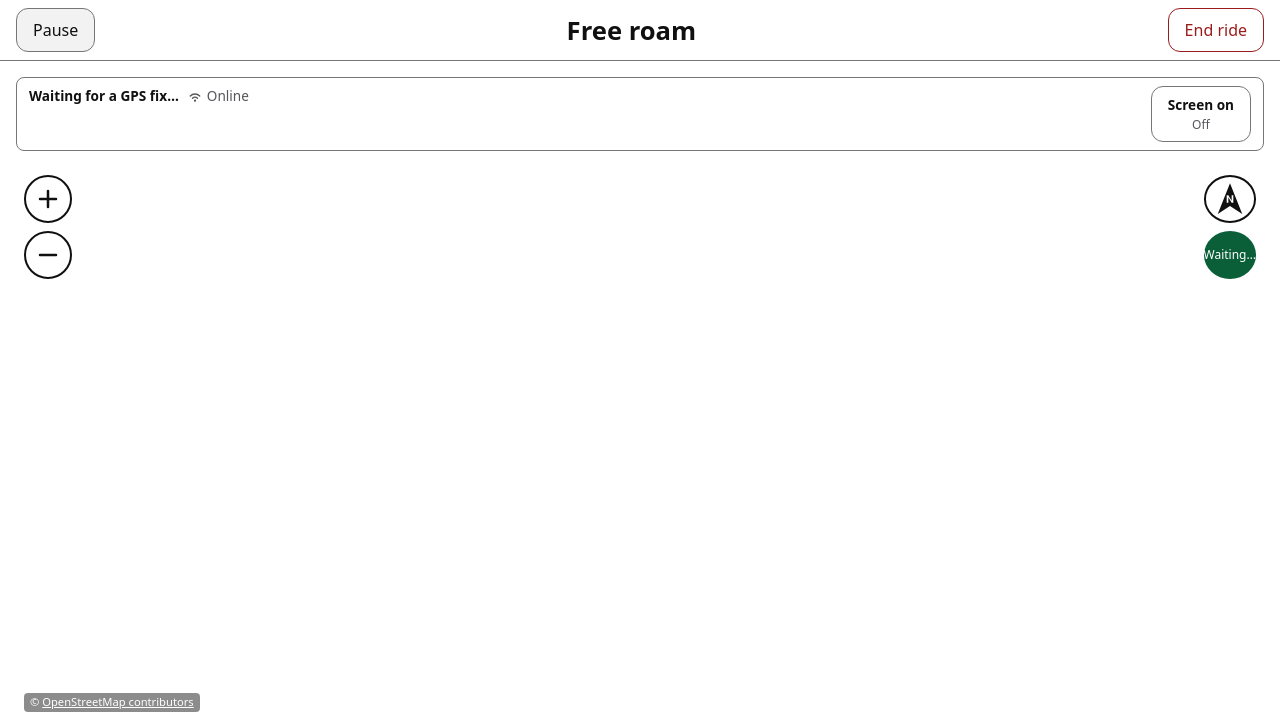
Test: FreeRoamScreen: hosted imagery status and route-free copy (backlog item 108) › keeps position-only wording when the status card is absent, after pausing before any fix arrives
The width and height of the screenshot is (1280, 720).
What coordinates should you click on to do the following:
click the button "Pause"
I would click on:
 (56, 30)
Its box is [16,8,95,52].
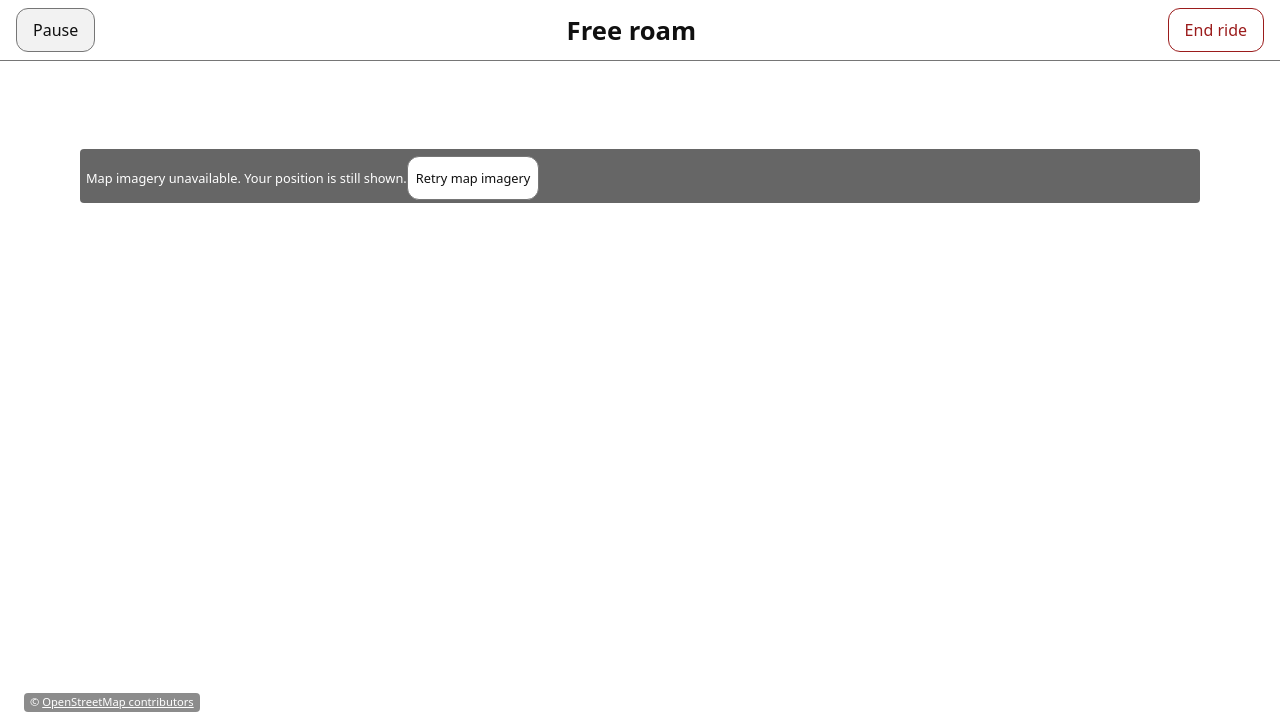
Result: the element with class "ride-status-card" is gone
Result: the element with test id "tiles-unavailable-banner" is shown at [80,149,1200,203]
Result: the message with test id "tiles-unavailable-banner" shows "Map imagery unavailable. Your position is still shown." at [86,169,407,187]
